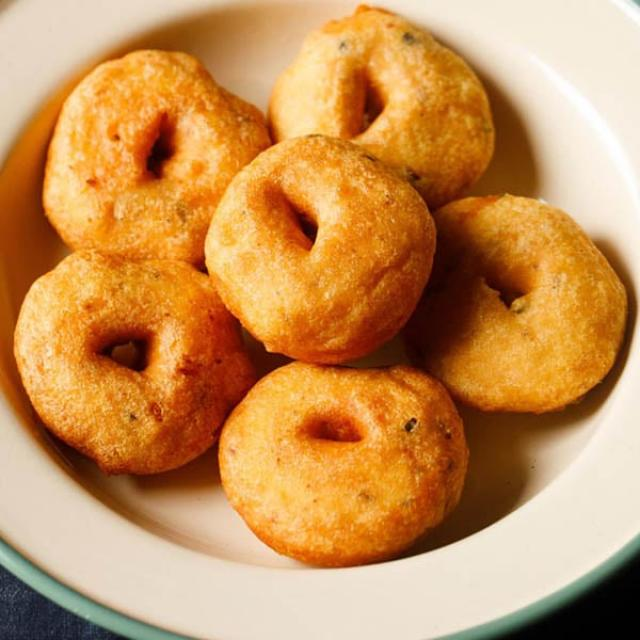VADA: (7, 3, 634, 566)
